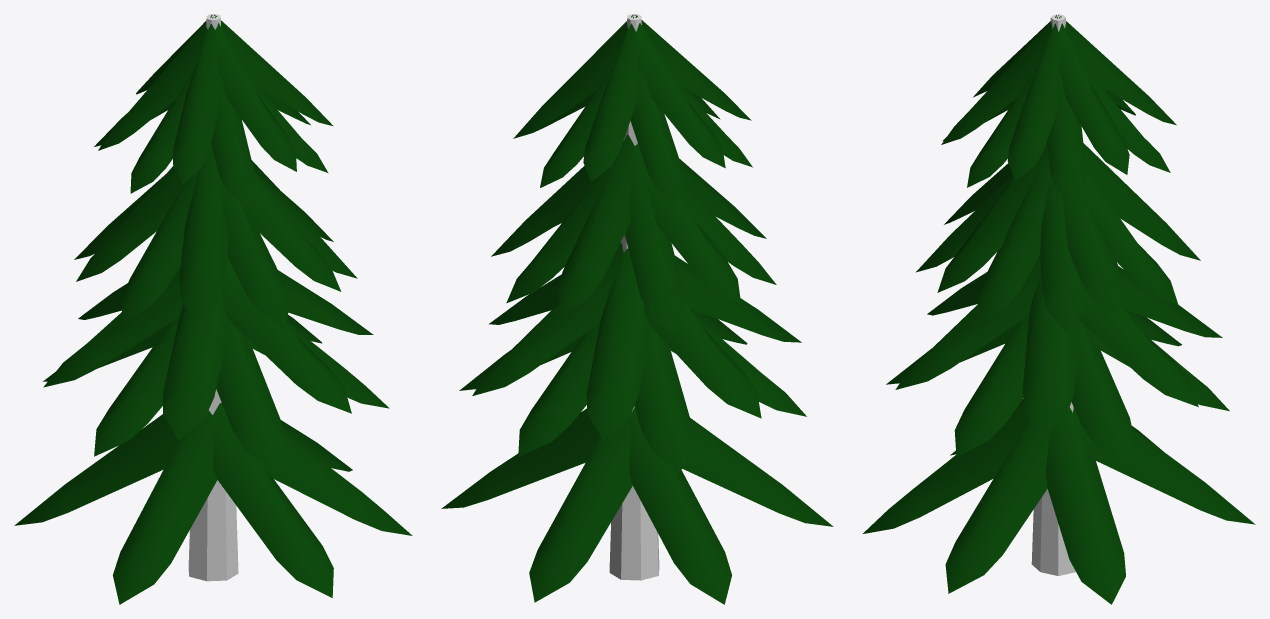
File: Baum1.fbx
3 views of the same model, side by side, from view 1: azimuth 30°, elevation 25°; view 2: azimuth 150°, elevation 25°; view 3: azimuth 270°, elevation 25° (orthographic).
Visible parts, largest first — view 1: Blätter3, Blätter4, Blätter2, Blätter, Stamm.001; view 2: Blätter3, Blätter4, Blätter2, Blätter, Stamm.001; view 3: Blätter3, Blätter4, Blätter2, Blätter, Stamm.001.
Part boxes in pixels (x1=…): Blätter3: x1=42, y1=256, x2=389, y2=471; Blätter4: x1=14, y1=403, x2=412, y2=604; Blätter2: x1=74, y1=143, x2=357, y2=328; Blätter: x1=94, y1=15, x2=333, y2=205; Stamm.001: x1=188, y1=14, x2=238, y2=581; Blätter3: x1=459, y1=235, x2=806, y2=472; Blätter4: x1=441, y1=408, x2=833, y2=604; Blätter2: x1=491, y1=135, x2=776, y2=333; Blätter: x1=513, y1=15, x2=752, y2=203; Stamm.001: x1=609, y1=14, x2=659, y2=580; Blätter3: x1=886, y1=254, x2=1229, y2=465; Blätter4: x1=863, y1=399, x2=1255, y2=604; Blätter2: x1=916, y1=142, x2=1200, y2=332; Blätter: x1=941, y1=15, x2=1176, y2=204; Stamm.001: x1=1031, y1=14, x2=1075, y2=576.
Bounding box in the file's own units: 1991 × 3349 × 2177.
